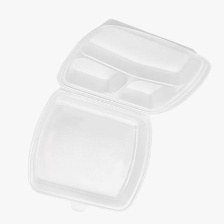foam_box: (20, 15, 215, 218)
